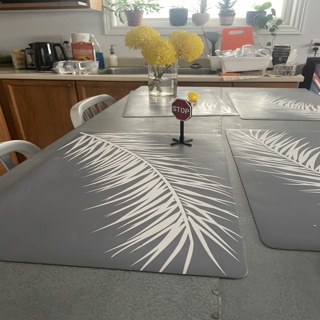sign_stop: (172, 96, 190, 119)
